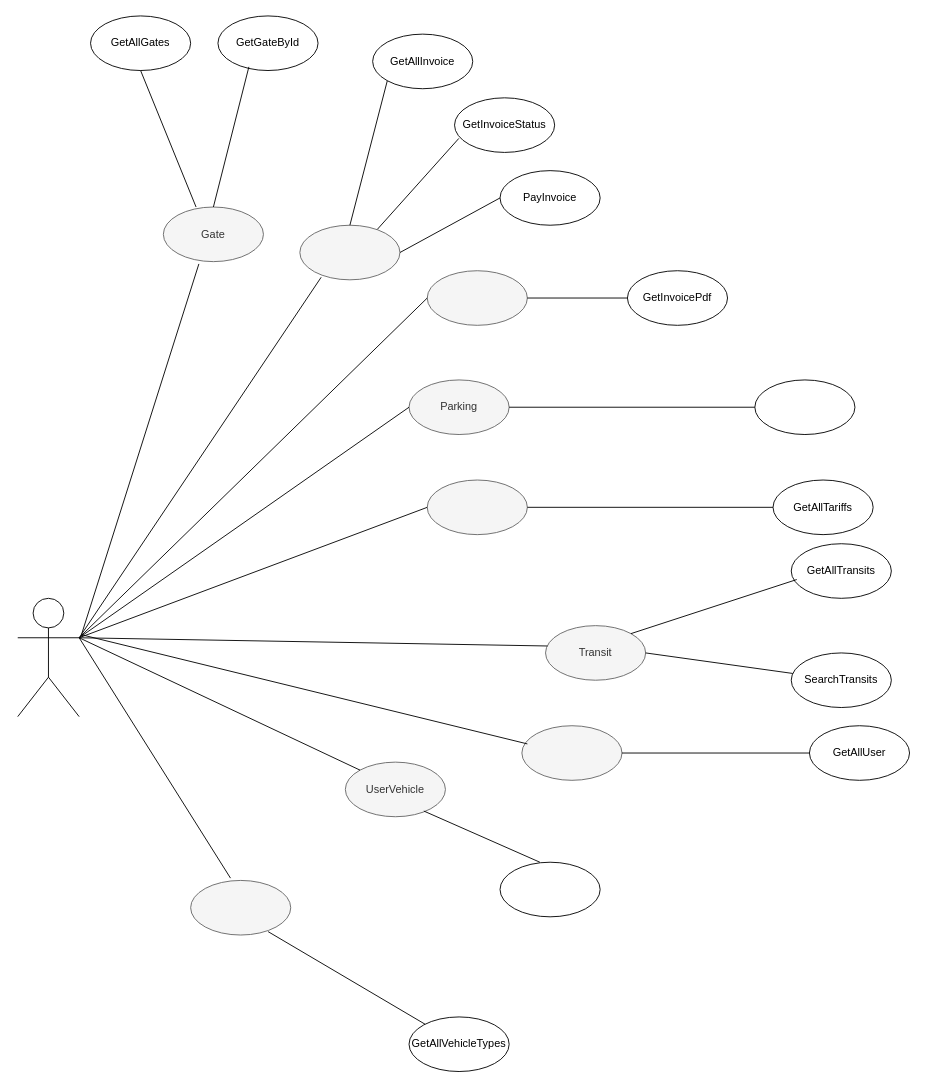
Some shapes in this 925 by 1087 pixel diagram are drawn without their labels. Each missing label, with the centre of its shape:
"Automobilista" belongs at (48,657).
"CheckAvailability" belongs at (804,407).
"GetUserVehicle" belongs at (549,889).
"Invoice" belongs at (349,252).
"InvoicePDF" belongs at (476,297).
"Tariff" belongs at (476,507).
"User" belongs at (571,752).
"VehicleType" belongs at (240,907).
